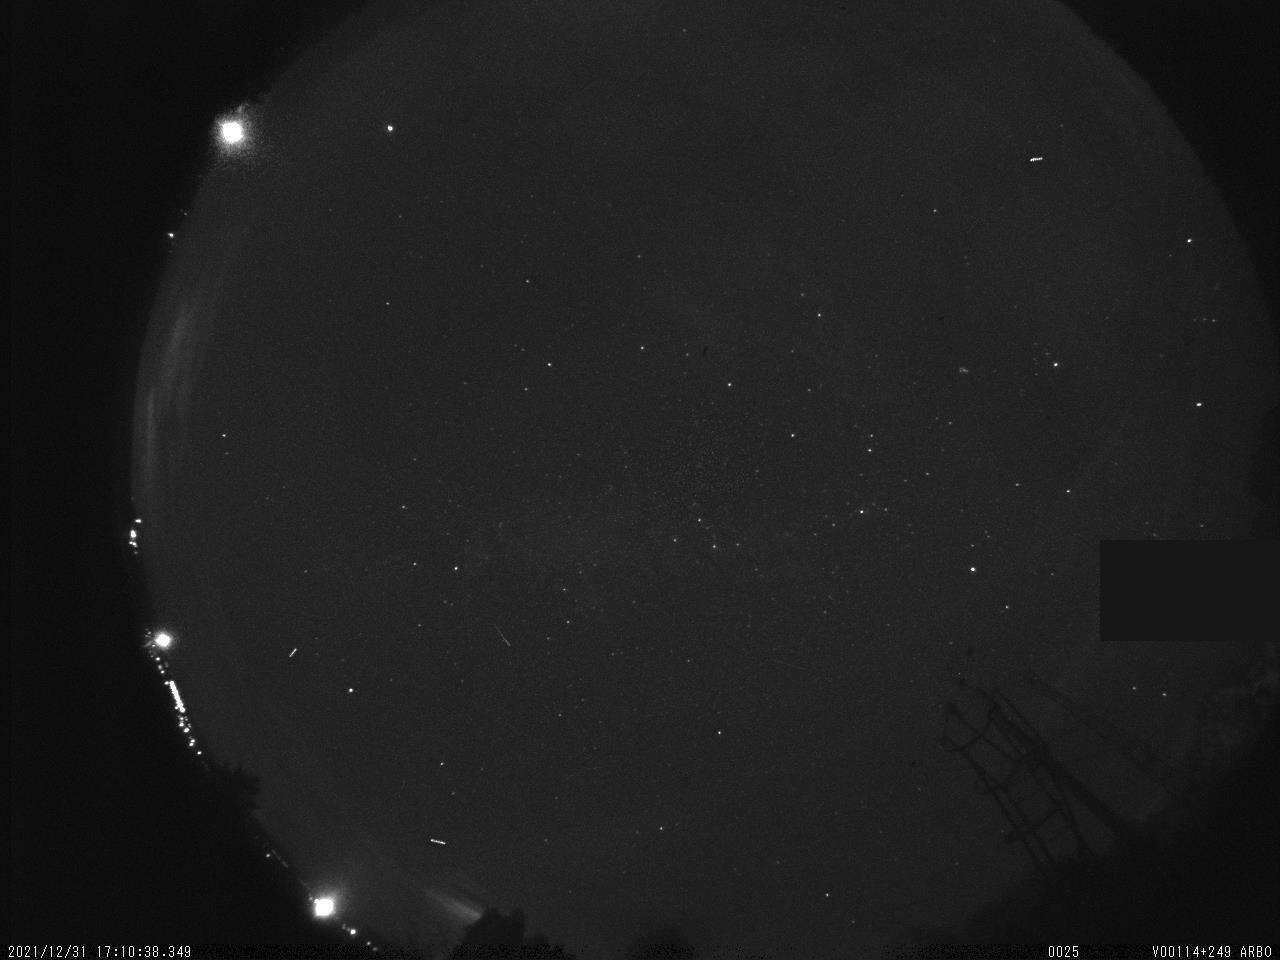satelite: (423, 826, 449, 857), (1021, 146, 1053, 171), (281, 642, 305, 667)
